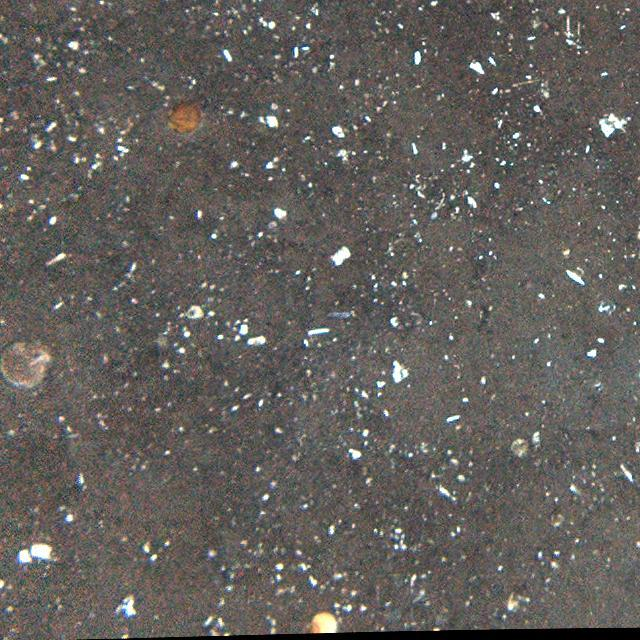scallop: (166, 98, 203, 136)
